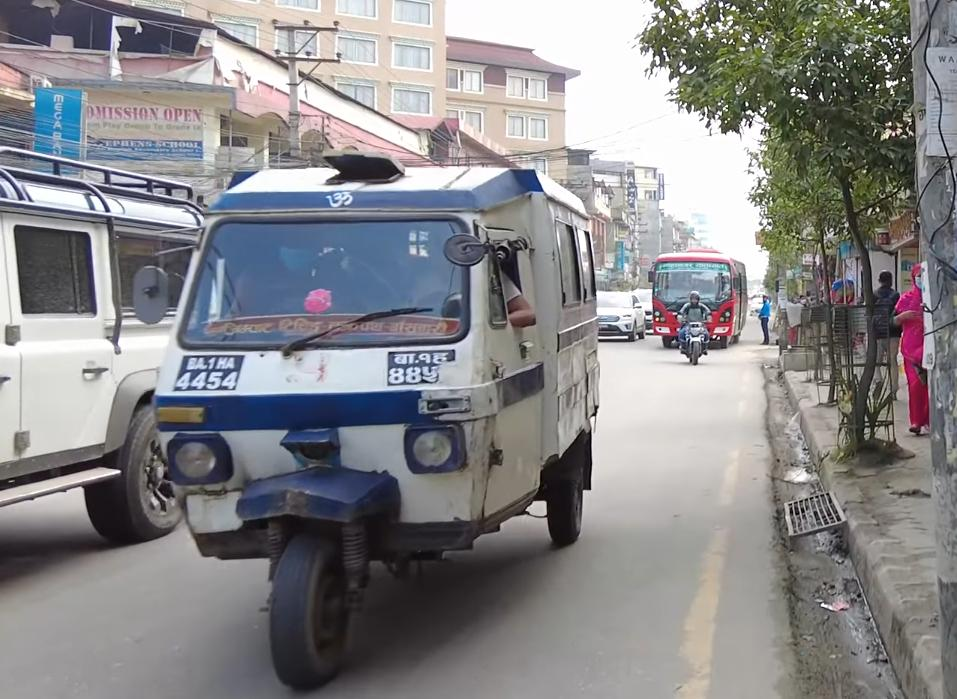bike: (675, 307, 716, 366)
bus: (647, 248, 753, 351)
car: (586, 284, 650, 343)
tempo: (137, 139, 609, 694)
